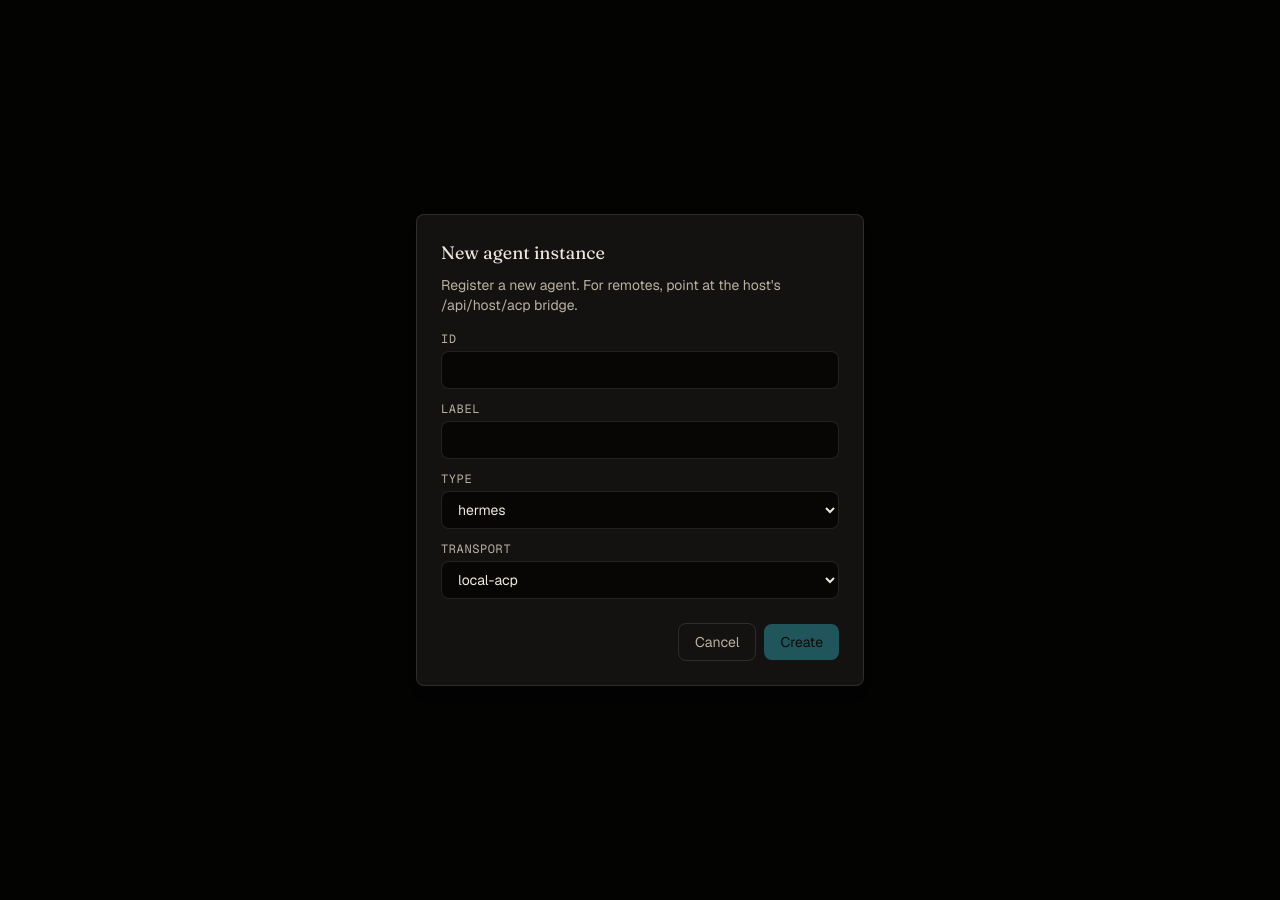
NewAgentDialog (AC-W2-U1) › reveals url + token fields only for remote-acp transport
Expected: the field labelled "URL" is not shown
Expected: the field labelled "Token" is not shown
Select "remote-acp" in the dropdown labelled "Transport" at (640, 580), box [441,561,839,599]
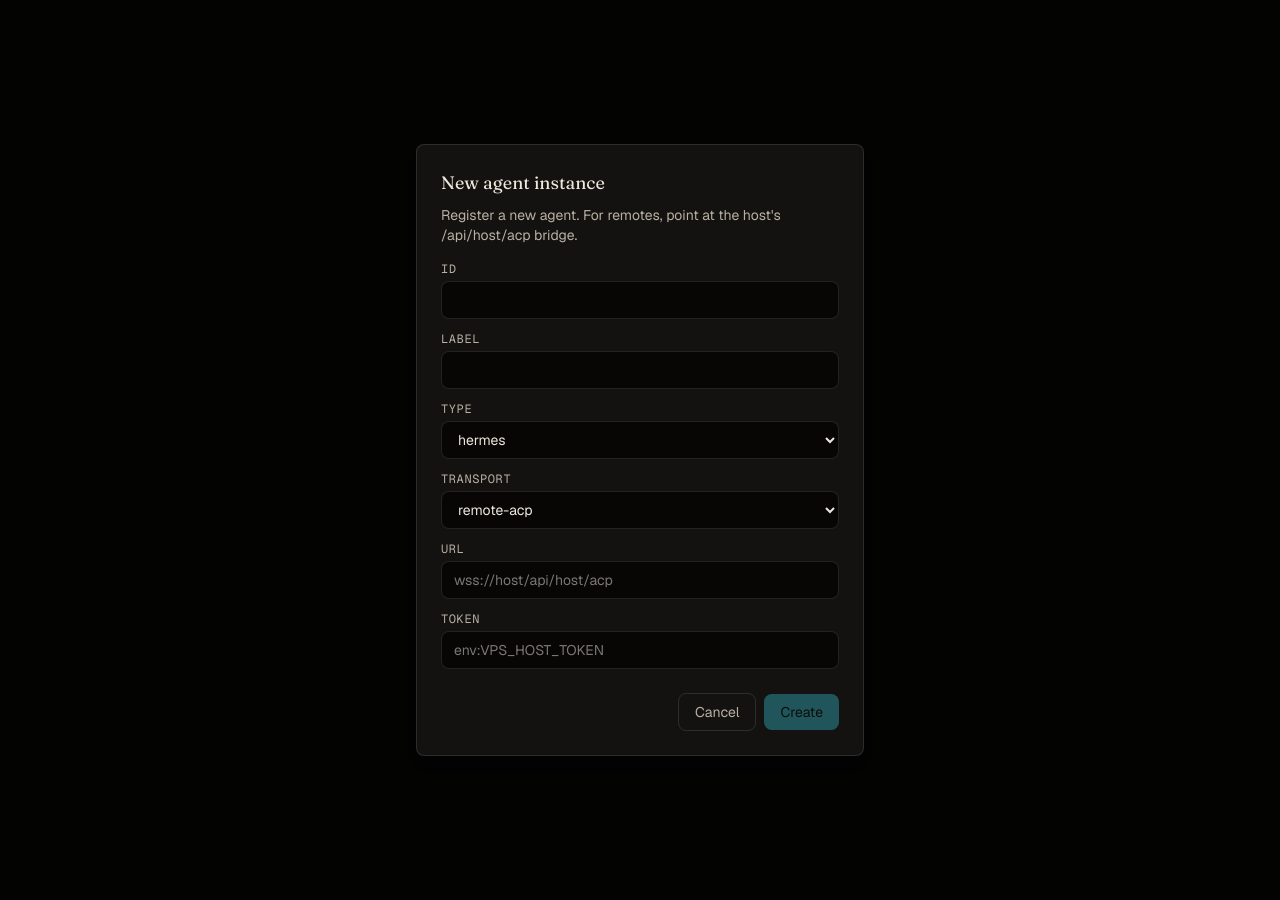
Expected: the field labelled "URL" is shown, [441,561,839,599]
Expected: the field labelled "Token" is shown, [441,631,839,669]
